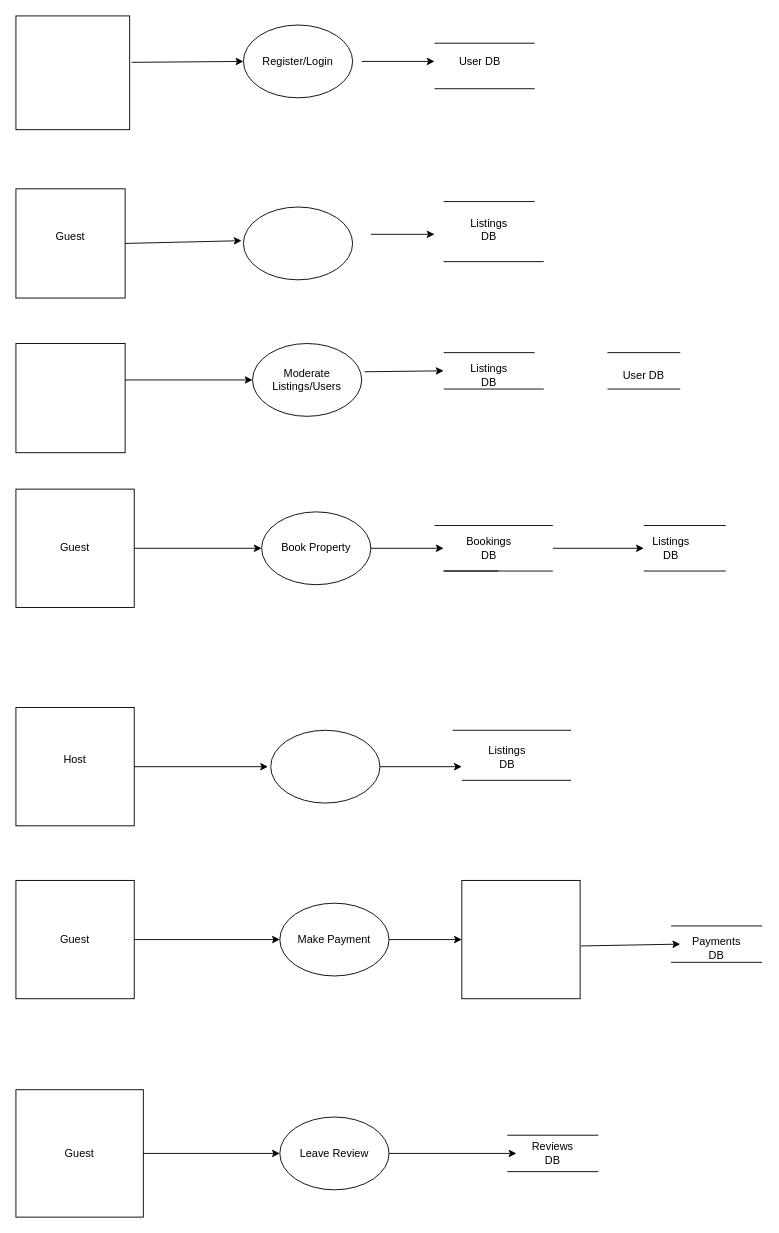
The diagram is 779 pixels wide and 1233 high, and some of its shapes have lost their labels. Here are the shapes that lost their labels. From the top down, the centre of each, then its label:
At point 72,72: "User".
At point 298,243: "Search Property".
At point 70,398: "Admin".
At point 325,766: "Add Property)".
At point 520,939: "Payment Gateway".
